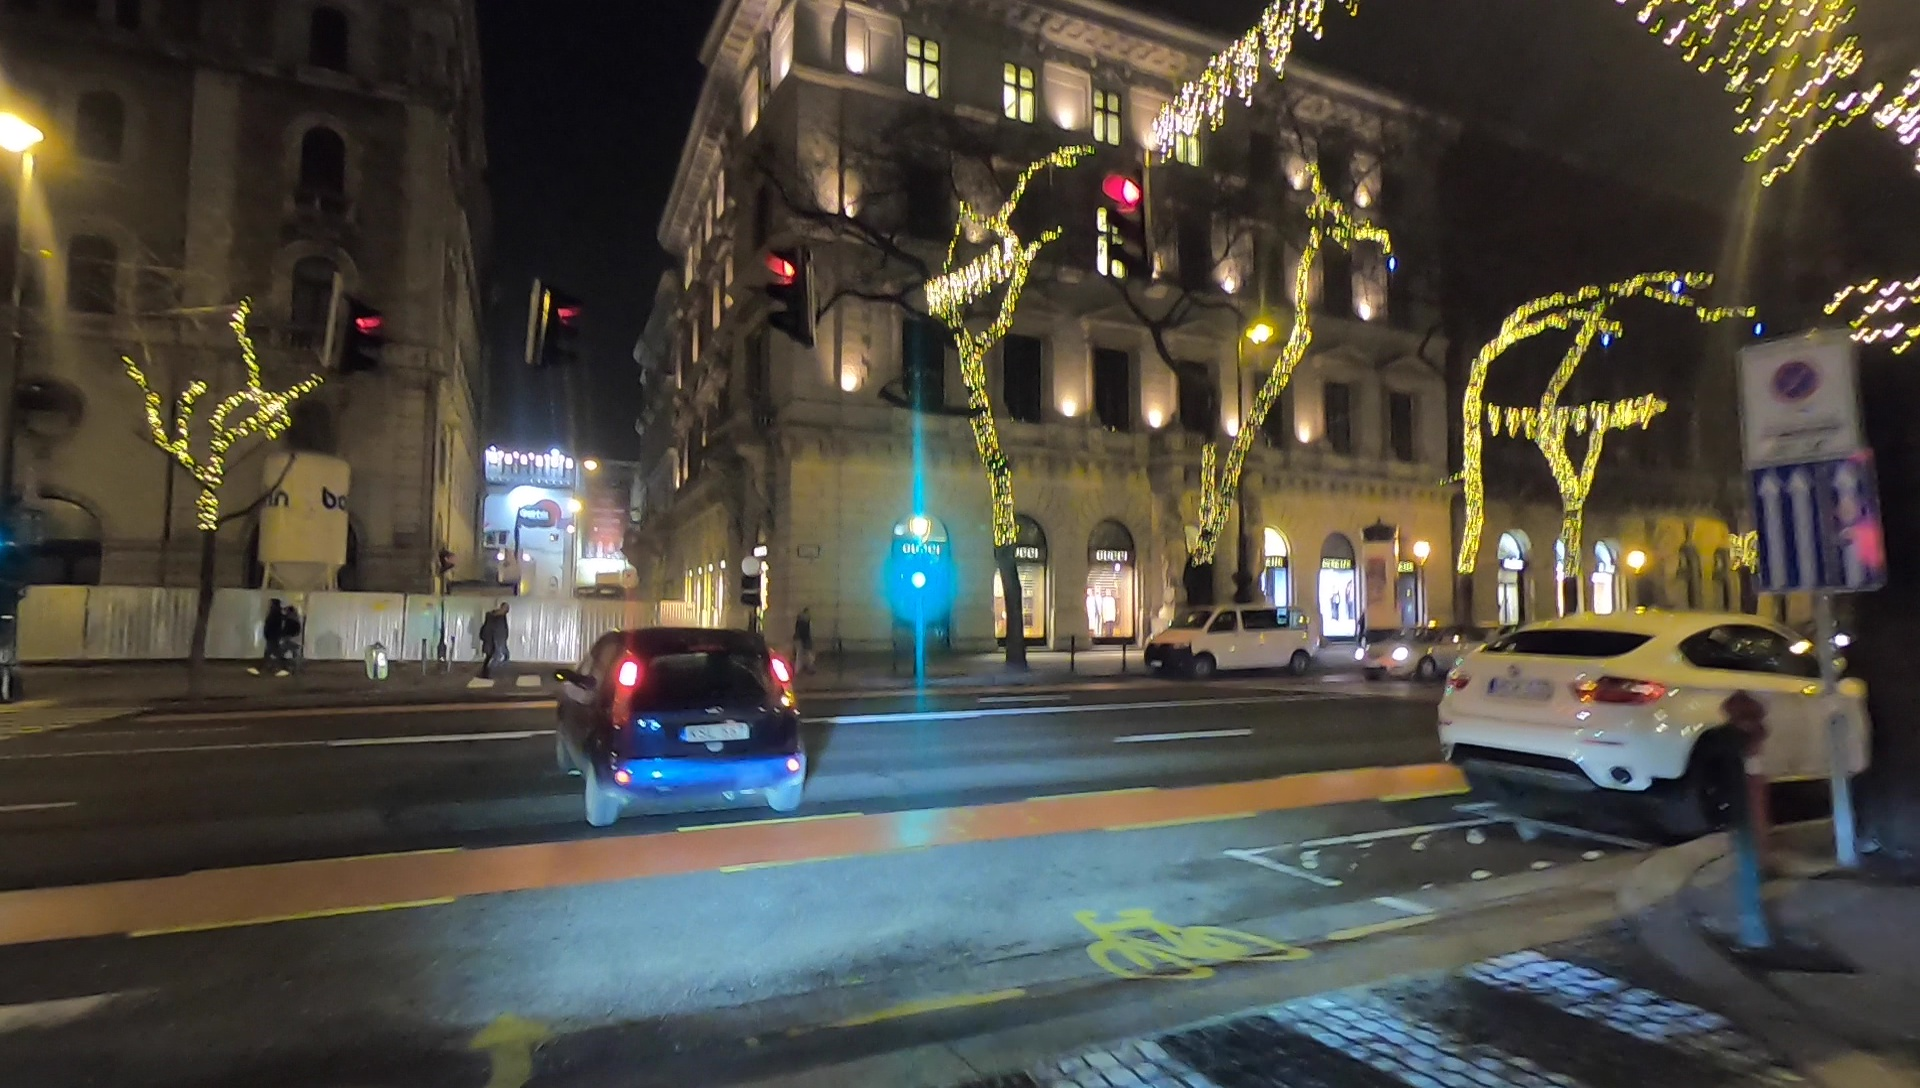person: (476, 599, 512, 680), (252, 598, 286, 679), (789, 606, 815, 678), (283, 602, 301, 673)
